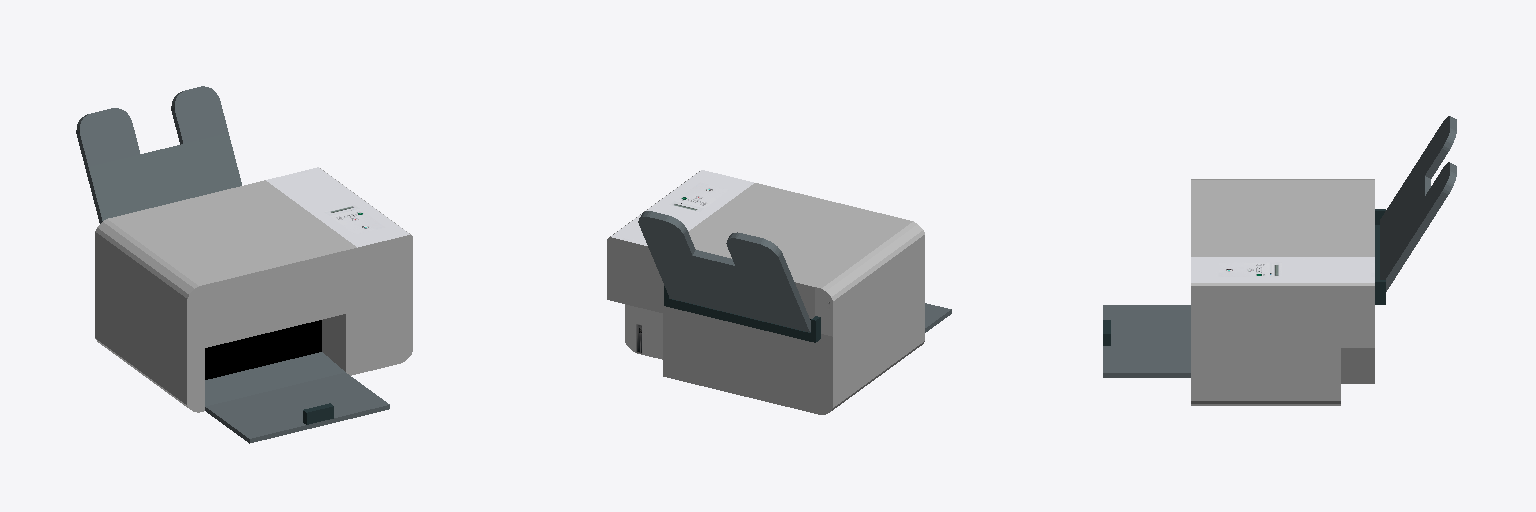
The picture shows the model from 3 angles: view 1: azimuth 30°, elevation 25°; view 2: azimuth 150°, elevation 25°; view 3: azimuth 270°, elevation 25°; orthographic projection.
Parts seen in each view (by area): view 1: object1, object3, object2, object4; view 2: object1, object3, object2, object7, object5; view 3: object1, object3, object2, object6, object5.
Boxes of the visible parts, <box> form: object1: <box>95,168,412,412</box>; object3: <box>76,86,389,443</box>; object2: <box>266,167,409,247</box>; object4: <box>205,320,321,379</box>; object1: <box>607,171,924,414</box>; object3: <box>638,211,951,332</box>; object2: <box>611,170,753,245</box>; object7: <box>625,287,832,359</box>; object5: <box>664,286,820,342</box>; object1: <box>1191,179,1374,405</box>; object3: <box>1103,116,1456,377</box>; object2: <box>1191,257,1374,282</box>; object6: <box>1341,348,1374,383</box>; object5: <box>1103,209,1385,345</box>.
Size of the model in its own units: 17.2 by 14.5 by 23.35.
7 materials, 2 textured.